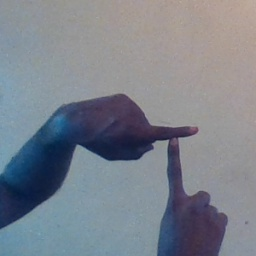T: (128, 106, 221, 214)
